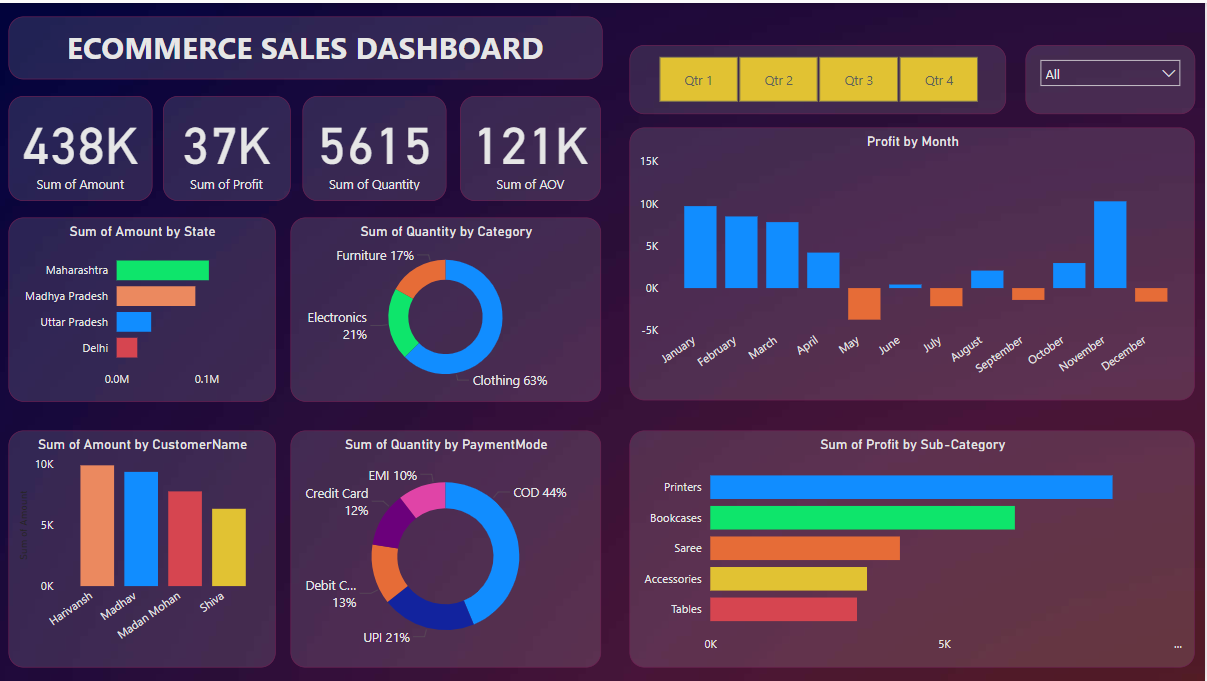

What the dashboard file says about the page in this screenshot:
{"tool":"powerbi","page":{"name":"Page 1","canvas":[1280,720],"ordinal":0},"visuals":[{"type":"textbox","box":[11.1,14.3,629.9,66.8],"z":0},{"type":"columnChart","title":"Profit by Month","fields":{"Y":["Details.Profit"],"Category":["Orders.Order Date.Variation.Date Hierarchy.Month"]},"box":[669.6,132,599.7,289.5],"z":1000},{"type":"barChart","fields":{"Category":["Details.Sub-Category"],"Y":["Details.Profit"]},"box":[669.6,453.3,599.7,251.3],"z":2000},{"type":"donutChart","fields":{"Category":["Details.Category"],"Y":["Details.Quantity"]},"box":[310.2,227.5,329.3,195.6],"z":3000},{"type":"donutChart","fields":{"Y":["Details.Quantity"],"Category":["Details.PaymentMode"]},"box":[310.2,453.3,329.3,251.3],"z":4000},{"type":"card","fields":{"Values":["Details.Amount"]},"box":[11.1,98.6,152.7,111.3],"z":5000},{"type":"card","fields":{"Values":["Details.Profit"]},"box":[175,98.6,135.2,111.3],"z":6000},{"type":"card","fields":{"Values":["Details.Quantity"]},"box":[322.9,98.6,152.7,111.3],"z":7000},{"type":"card","fields":{"Values":["Details.AOV"]},"box":[489.9,98.6,149.5,111.3],"z":8000},{"type":"barChart","fields":{"Category":["Orders.State"],"Y":["Details.Amount"]},"box":[11.1,227.5,283.1,195.6],"z":9000},{"type":"columnChart","fields":{"Category":["Orders.CustomerName"],"Y":["Details.Amount"]},"box":[11.1,453.3,283.1,251.3],"z":10000},{"type":"slicer","fields":{"Values":["Orders.Order Date.Variation.Date Hierarchy.Quarter"]},"box":[669.6,44.5,399.2,73.2],"z":11000},{"type":"slicer","fields":{"Values":["Orders.State"]},"box":[1089.6,44.5,179.7,73.2],"z":11001}]}

Visuals, with their boxes in screenshot pixels (x1, y1, x2, y2), scaled from the page's 1280x720 canvas onto the 1207x681 screenshot:
textbox: 10:14:604:77
"Profit by Month" columnChart: 631:125:1197:399
barChart - Details.Sub-Category x Details.Profit: 631:429:1197:666
donutChart - Details.Category x Details.Quantity: 293:215:603:400
donutChart - Details.Quantity x Details.PaymentMode: 293:429:603:666
card - Details.Amount: 10:93:154:199
card - Details.Profit: 165:93:293:199
card - Details.Quantity: 304:93:448:199
card - Details.AOV: 462:93:603:199
barChart - Orders.State x Details.Amount: 10:215:277:400
columnChart - Orders.CustomerName x Details.Amount: 10:429:277:666
slicer - Orders.Order Date.Variation.Date Hierarchy.Quarter: 631:42:1008:111
slicer - Orders.State: 1027:42:1197:111
